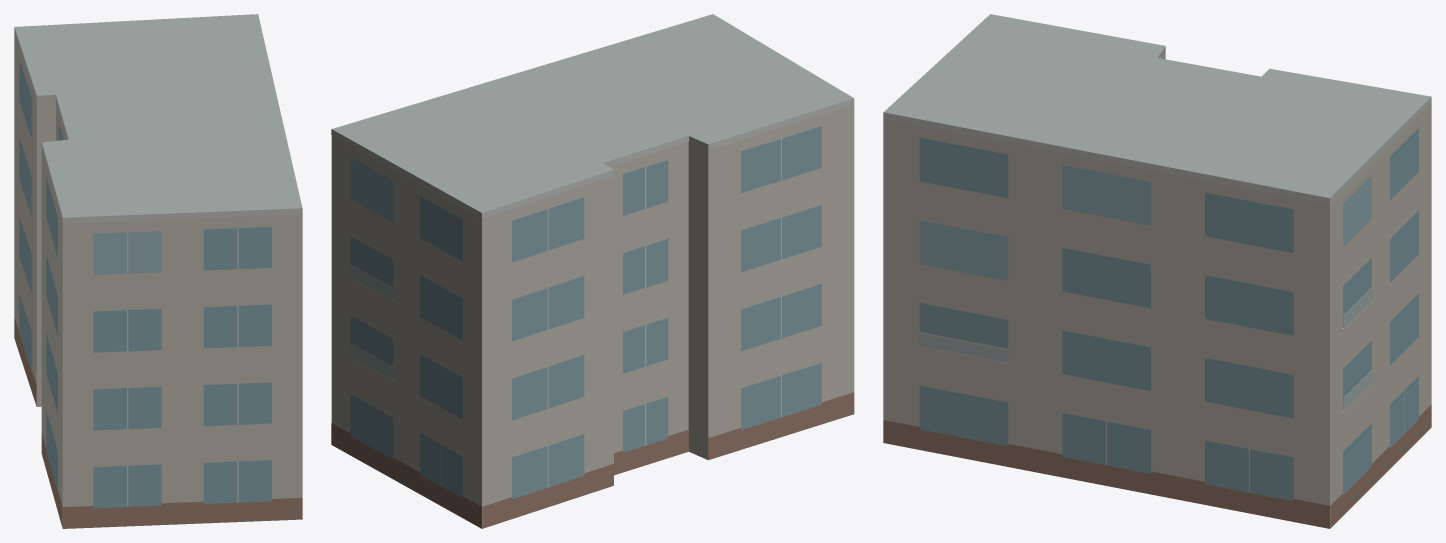
Rendered from survey-upis-32561082.glb.
3 renders of one model, left to right at view 1: azimuth 30°, elevation 25°; view 2: azimuth 150°, elevation 25°; view 3: azimuth 270°, elevation 25°, orthographic. The views are drawn at different scales.
Visible parts, largest first — view 1: survey-upis-32561082.tmp; view 2: survey-upis-32561082.tmp; view 3: survey-upis-32561082.tmp.
Boxes of the visible parts, x1,y1,x2,y2 form: survey-upis-32561082.tmp: (14,14,302,528); survey-upis-32561082.tmp: (331,14,854,528); survey-upis-32561082.tmp: (883,14,1431,528).
Size of the model in its own units: 15.09 by 12.62 by 18.97.
